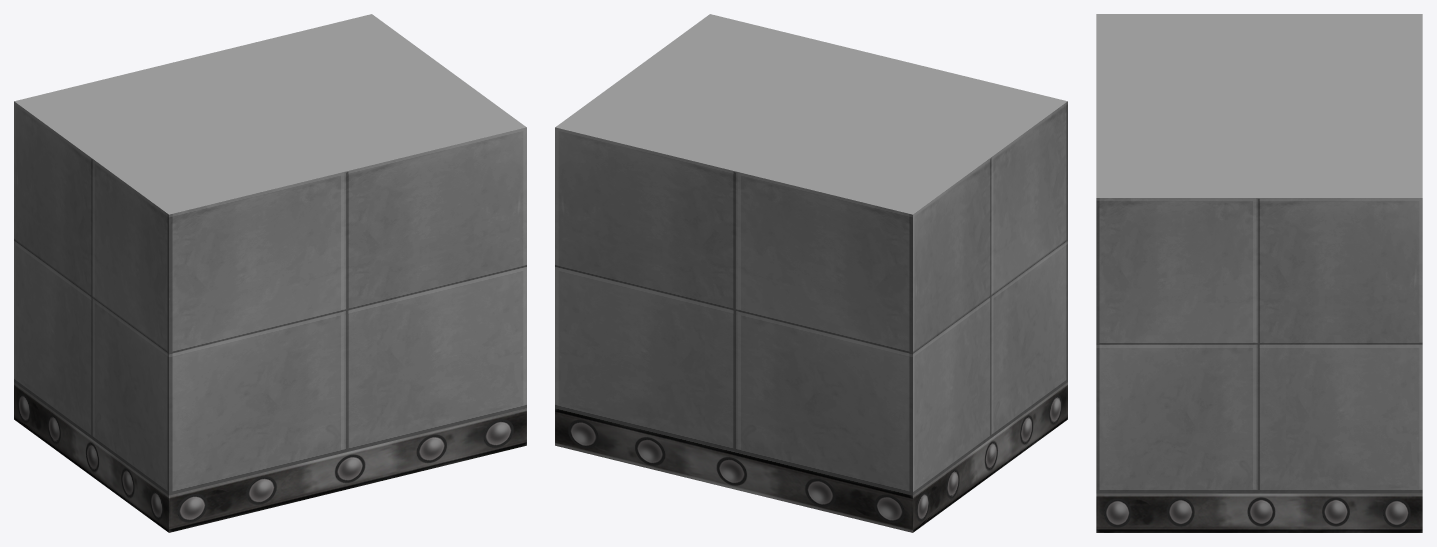
The model's file is factory_elevator.fbx.
The picture shows the model from 3 angles, left to right: view 1: azimuth 30°, elevation 25°; view 2: azimuth 150°, elevation 25°; view 3: azimuth 270°, elevation 25°; orthographic projection. The views are drawn at different scales.
Parts seen in each view (by area): view 1: wall_front, ceiling, wall_left, elevator_floor; view 2: wall_back, ceiling, wall_left, elevator_floor; view 3: wall_right, ceiling, elevator_floor.
Boxes of the visible parts, x1=… form: wall_front: x1=169, y1=127, x2=526, y2=495; ceiling: x1=14, y1=14, x2=526, y2=214; wall_left: x1=14, y1=101, x2=168, y2=494; elevator_floor: x1=14, y1=382, x2=526, y2=532; wall_back: x1=555, y1=127, x2=912, y2=495; ceiling: x1=555, y1=14, x2=1067, y2=214; wall_left: x1=913, y1=101, x2=1067, y2=494; elevator_floor: x1=555, y1=382, x2=1067, y2=532; wall_right: x1=1096, y1=198, x2=1422, y2=493; ceiling: x1=1096, y1=14, x2=1422, y2=197; elevator_floor: x1=1096, y1=493, x2=1422, y2=532.
Size of the model in its own units: 20 by 17 by 15.
Materials: 5 (4 with a texture image).
